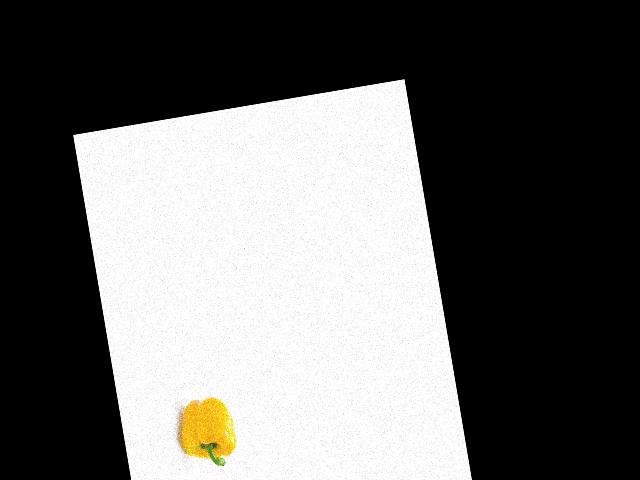bell_pepper: (174, 391, 244, 478)
